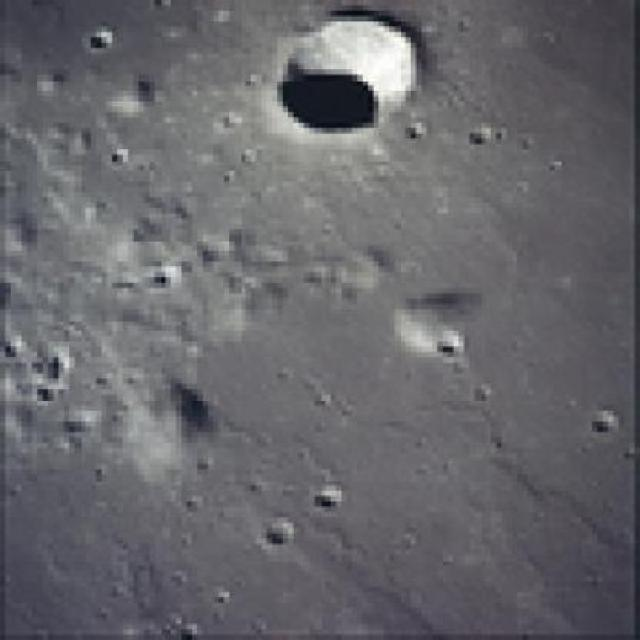crater: (278, 24, 417, 138), (588, 411, 620, 443), (312, 482, 346, 508), (266, 514, 294, 544), (436, 332, 464, 357)
